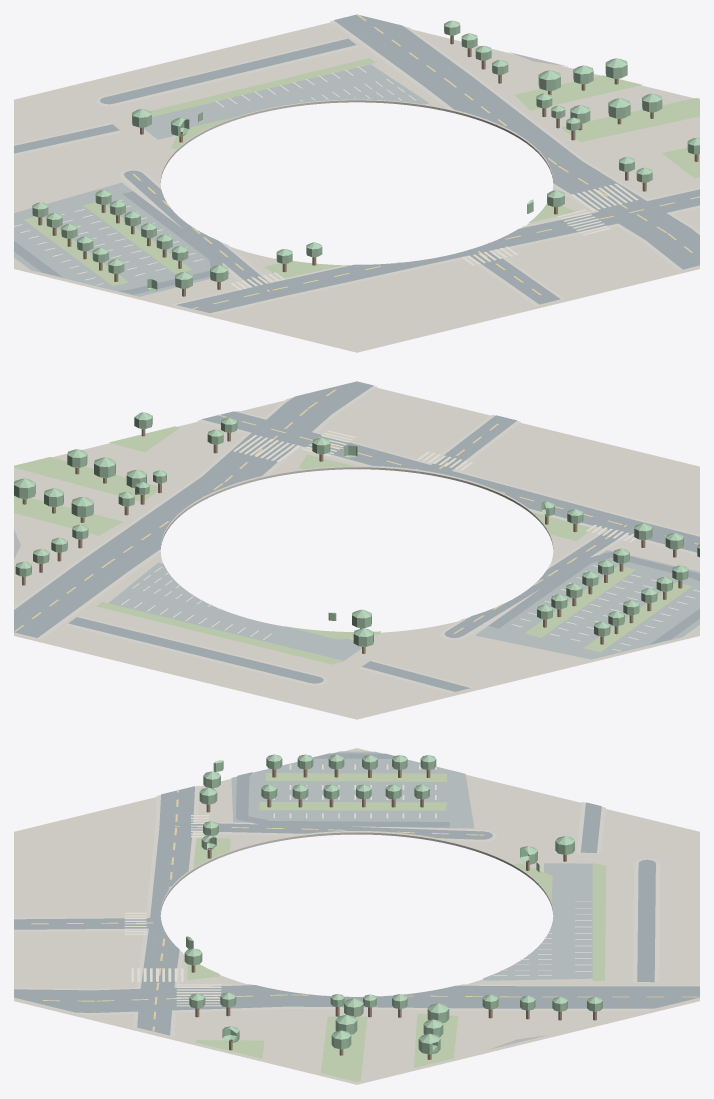
File: surround-X4.glb
The picture shows the model from 3 angles, top to bottom: view 1: azimuth 30°, elevation 25°; view 2: azimuth 150°, elevation 25°; view 3: azimuth 270°, elevation 25°; orthographic projection.
Parts seen in each view (by area): view 1: X4_ground, X4_road, X4_parking, X4_lawn, X4_leaf, X4_paving, X4_white, X4_trunk, X4_yellow; view 2: X4_ground, X4_road, X4_parking, X4_lawn, X4_leaf, X4_paving, X4_white, X4_trunk, X4_yellow; view 3: X4_ground, X4_road, X4_parking, X4_lawn, X4_leaf, X4_paving, X4_white, X4_trunk, X4_yellow.
Boxes of the visible parts, left/top/right/bottom form: X4_ground: left=14, top=22, right=699, bottom=352; X4_road: left=14, top=14, right=699, bottom=313; X4_parking: left=14, top=64, right=428, bottom=296; X4_lawn: left=24, top=58, right=699, bottom=286; X4_leaf: left=32, top=20, right=699, bottom=290; X4_paving: left=14, top=20, right=699, bottom=314; X4_white: left=14, top=66, right=638, bottom=290; X4_trunk: left=38, top=35, right=698, bottom=296; X4_yellow: left=132, top=14, right=699, bottom=308; X4_ground: left=14, top=387, right=699, bottom=719; X4_road: left=14, top=381, right=699, bottom=691; X4_parking: left=108, top=550, right=699, bottom=661; X4_lawn: left=14, top=426, right=691, bottom=664; X4_leaf: left=14, top=412, right=699, bottom=647; X4_paving: left=14, top=386, right=699, bottom=693; X4_white: left=121, top=430, right=699, bottom=651; X4_trunk: left=22, top=429, right=682, bottom=653; X4_yellow: left=14, top=389, right=698, bottom=633; X4_ground: left=14, top=748, right=699, bottom=1084; X4_road: left=14, top=753, right=699, bottom=1035; X4_parking: left=231, top=751, right=592, bottom=980; X4_lawn: left=187, top=773, right=606, bottom=1081; X4_leaf: left=184, top=754, right=602, bottom=1054; X4_paving: left=14, top=785, right=699, bottom=1036; X4_white: left=124, top=764, right=591, bottom=1006; X4_trunk: left=191, top=769, right=596, bottom=1059; X4_yellow: left=31, top=789, right=698, bottom=1031.
Size of the model in its own units: 16.16 by 0.6375 by 14.
